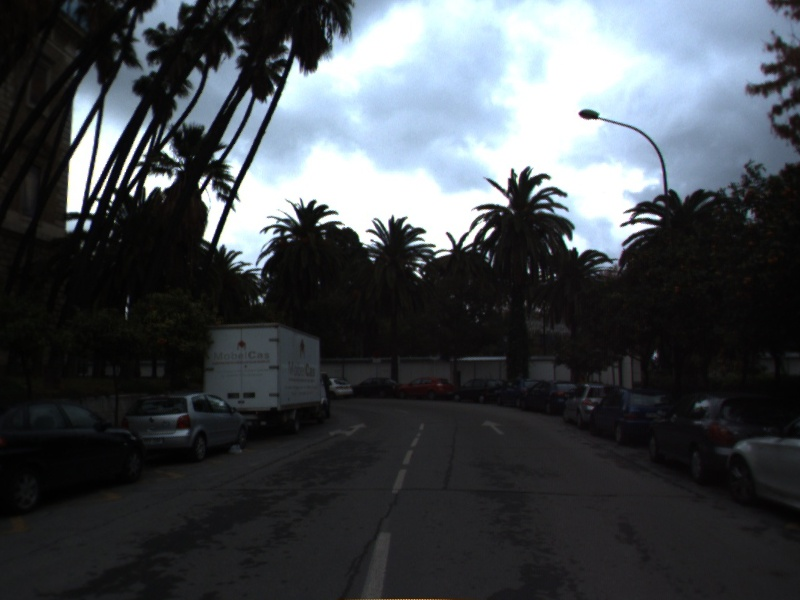STRAIGHT: (480, 418, 507, 436)
STRAIGHT_LEFT: (327, 421, 369, 438)
